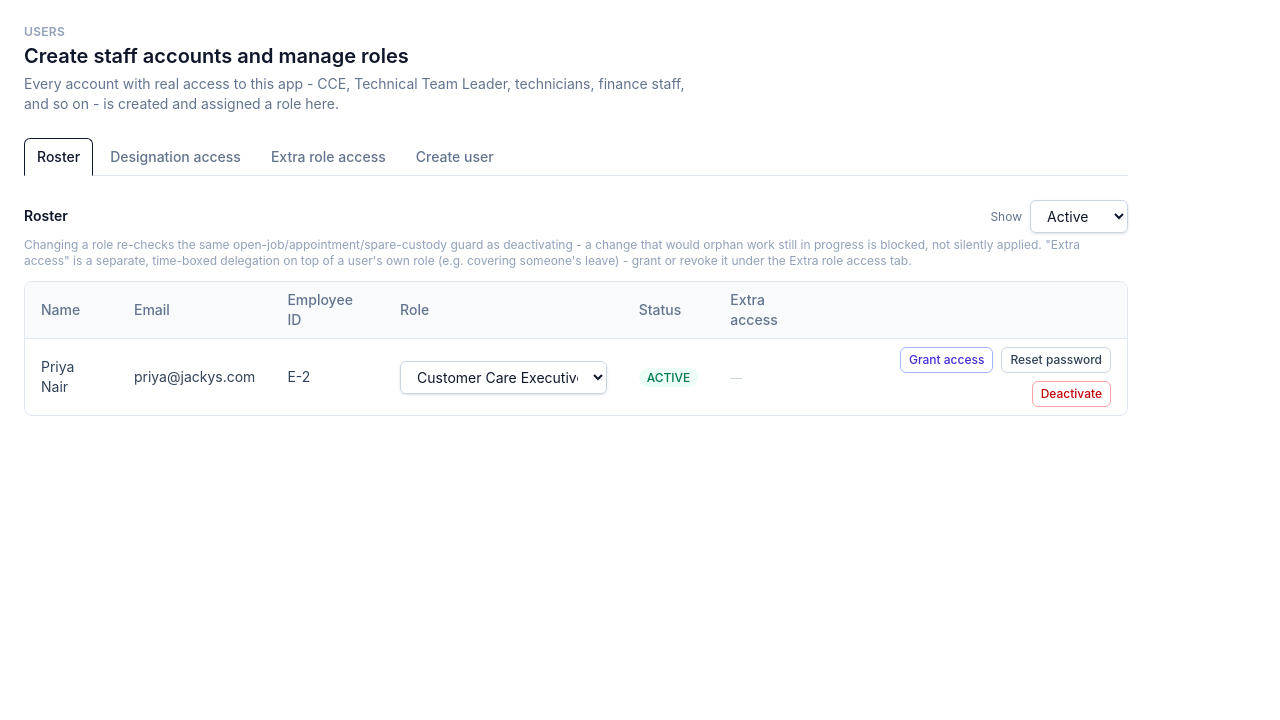
UsersPage - reset password › surfaces a server error (e.g. an admin trying to reset their own account) as an error notice inside the modal
The width and height of the screenshot is (1280, 720).
Click the button "Reset password" at (1056, 360), box [1001, 347, 1111, 373]
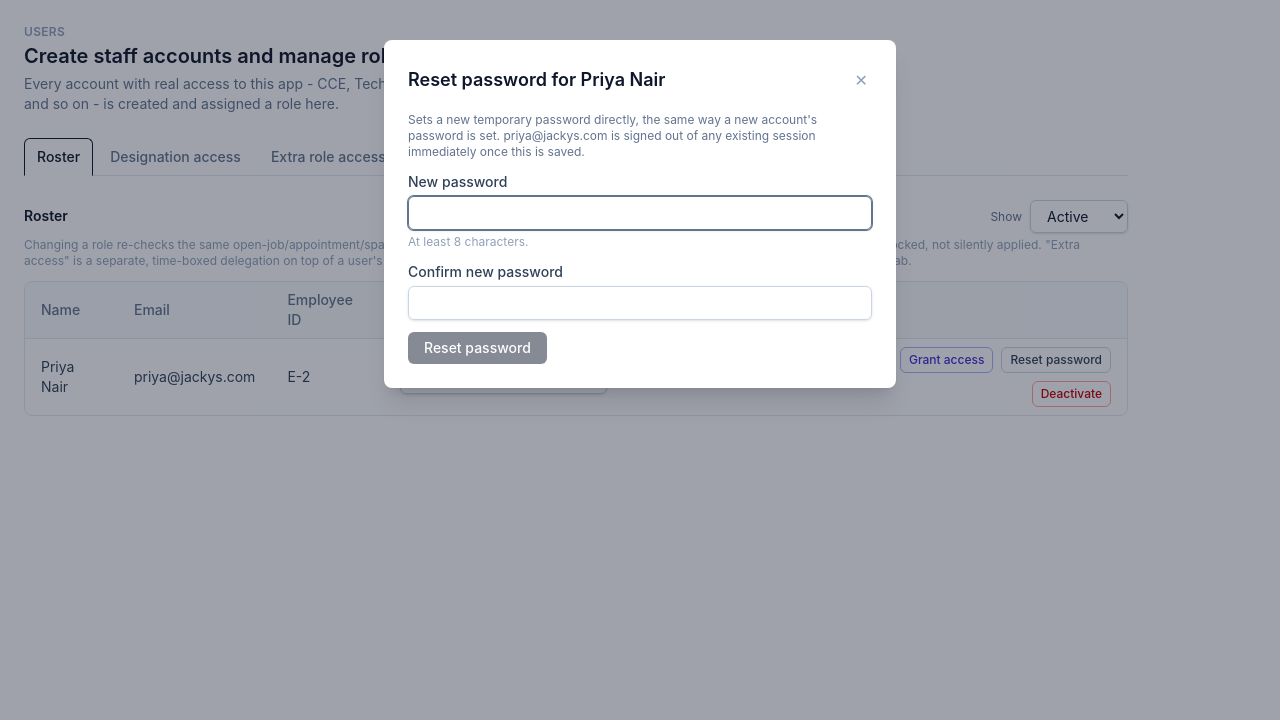
Type "Welcome2026!" into the field labelled "New password At least 8 characters." at (640, 213), box [408, 196, 872, 230]
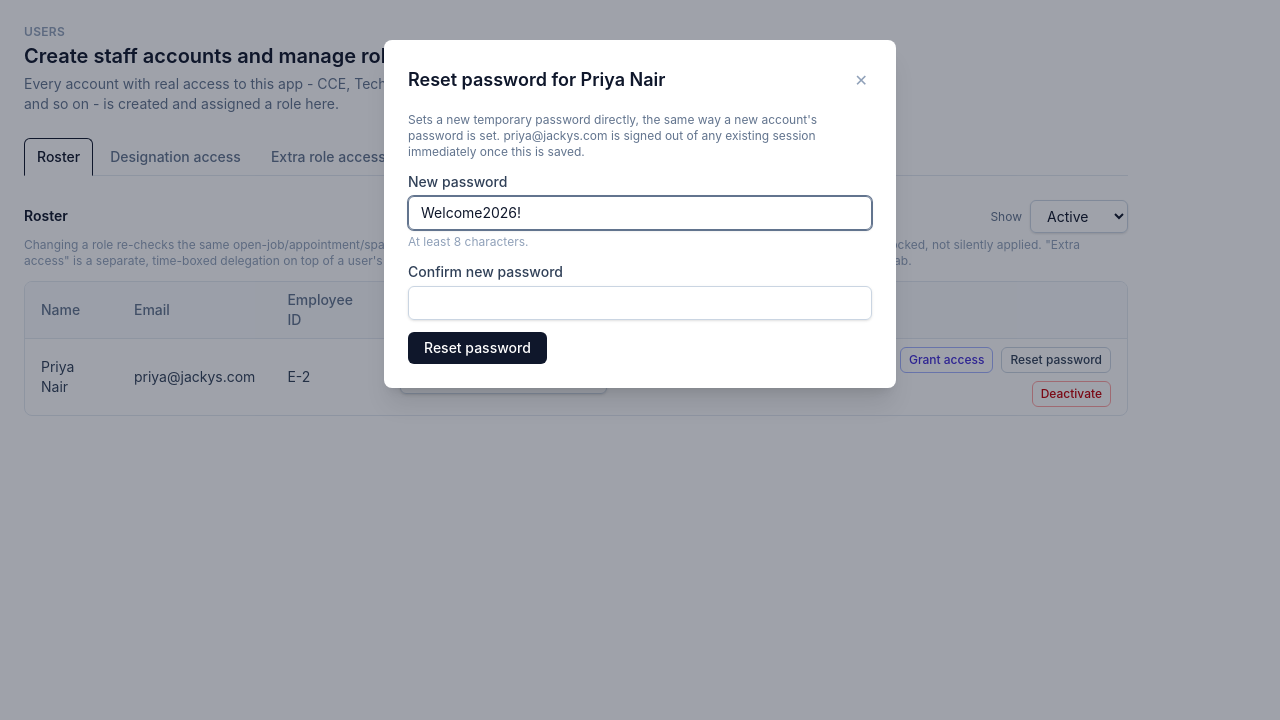
Type "Welcome2026!" into the field labelled "Confirm new password" at (640, 303), box [408, 286, 872, 320]
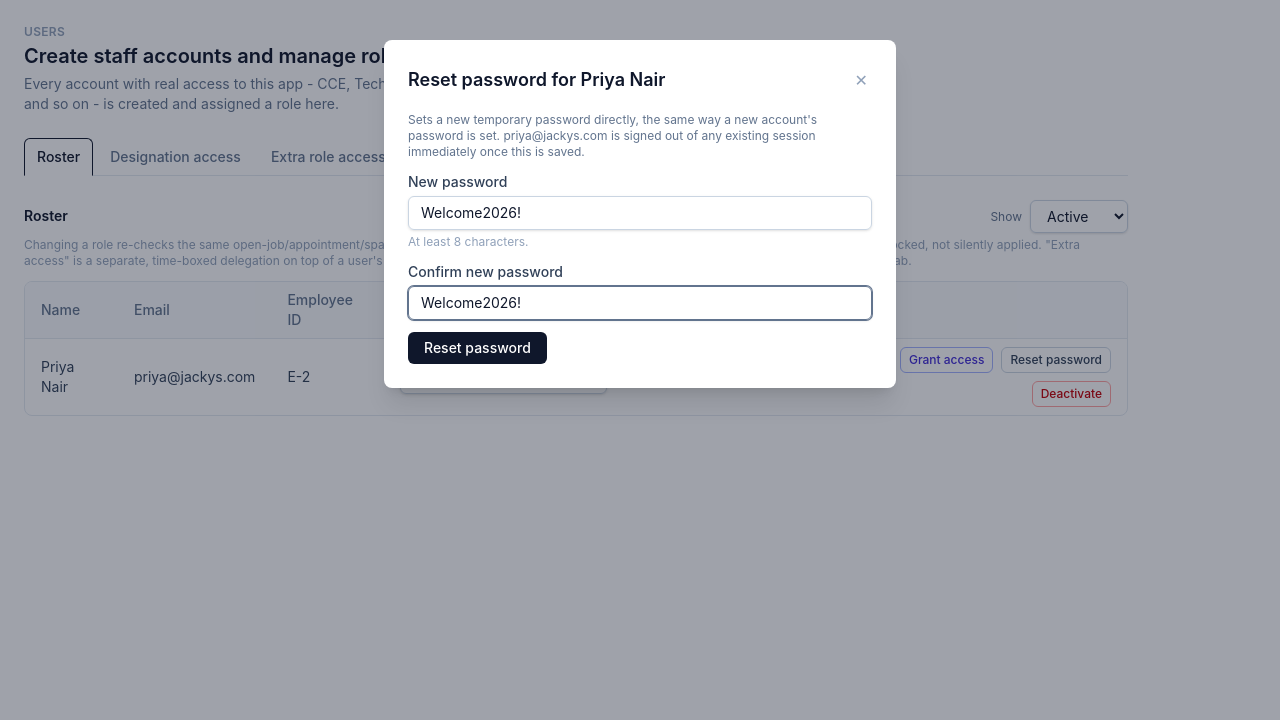
Click the button "Reset password" at (477, 348), box [408, 332, 547, 364]
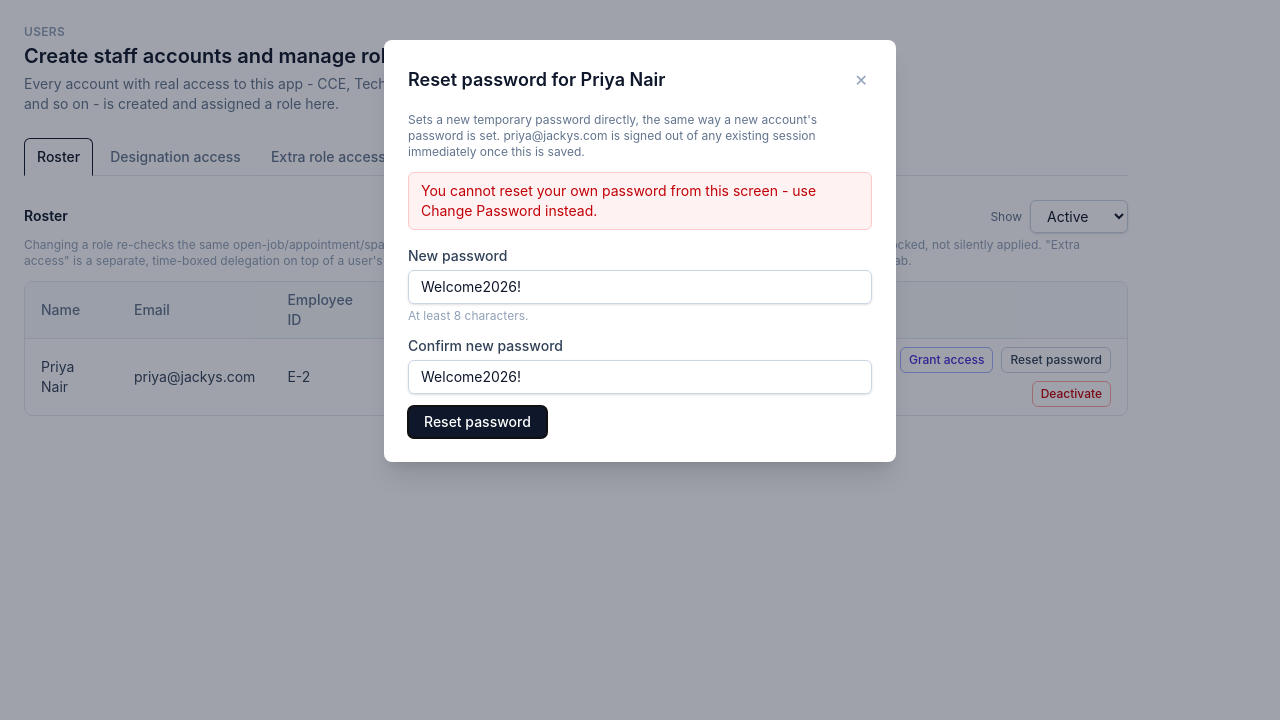
Check: the text "use Change Password instead" is shown, box [421, 182, 816, 219]
